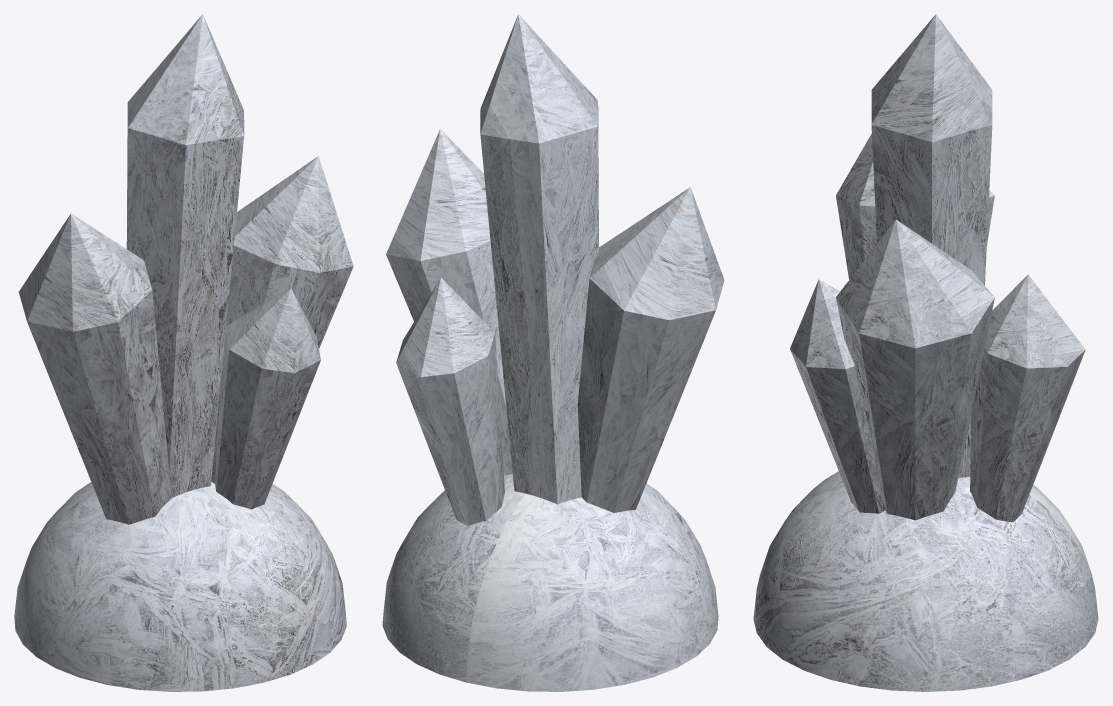
File: LampLight_PinkCrystal_FBX.FBX
The picture shows the model from 3 angles, left to right: view 1: azimuth 30°, elevation 25°; view 2: azimuth 150°, elevation 25°; view 3: azimuth 270°, elevation 25°; orthographic projection. The views are drawn at different scales.
Visible parts, largest first — view 1: Pink_Crystal_Base, Pink_Crystal_Normal, Left_PinkCrystal, Front_Small_PinkCrystal, Right_PinkCrystal; view 2: Pink_Crystal_Base, Pink_Crystal_Normal, Left_PinkCrystal, Back_Small_PinkCrystal, Right_PinkCrystal; view 3: Pink_Crystal_Base, Right_PinkCrystal, Pink_Crystal_Normal, Back_Small_PinkCrystal, Front_Small_PinkCrystal, Left_PinkCrystal.
Part boxes in pixels (x1=…): Pink_Crystal_Base: x1=14, y1=482, x2=346, y2=691; Pink_Crystal_Normal: x1=126, y1=14, x2=244, y2=497; Left_PinkCrystal: x1=18, y1=213, x2=171, y2=524; Front_Small_PinkCrystal: x1=215, y1=288, x2=320, y2=509; Right_PinkCrystal: x1=211, y1=156, x2=353, y2=483; Pink_Crystal_Base: x1=382, y1=474, x2=718, y2=691; Pink_Crystal_Normal: x1=480, y1=14, x2=598, y2=504; Left_PinkCrystal: x1=577, y1=187, x2=724, y2=512; Back_Small_PinkCrystal: x1=396, y1=277, x2=504, y2=526; Right_PinkCrystal: x1=386, y1=129, x2=512, y2=475; Pink_Crystal_Base: x1=753, y1=471, x2=1098, y2=691; Right_PinkCrystal: x1=836, y1=219, x2=994, y2=520; Pink_Crystal_Normal: x1=871, y1=14, x2=992, y2=477; Back_Small_PinkCrystal: x1=970, y1=274, x2=1085, y2=522; Front_Small_PinkCrystal: x1=790, y1=279, x2=885, y2=513; Left_PinkCrystal: x1=836, y1=133, x2=994, y2=279.
Bounding box in the file's own units: 30.11 × 54 × 27.3.
